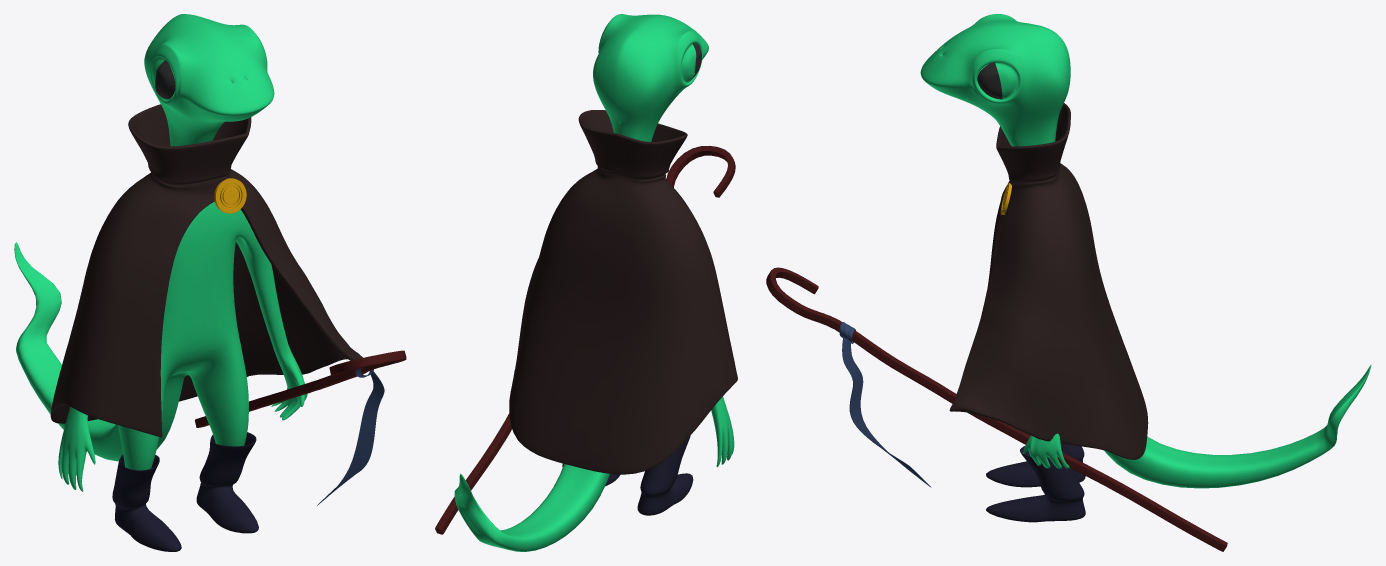
File: lizard.gltf
3 views of the same model, side by side, from view 1: azimuth 30°, elevation 25°; view 2: azimuth 150°, elevation 25°; view 3: azimuth 270°, elevation 25° (orthographic). The views are drawn at different scales.
Visible parts, largest first — view 1: Object_4, Object_8, Object_7, Object_2, Object_5, Object_9, Object_6, Object_3; view 2: Object_4, Object_7, Object_8, Object_2, Object_5; view 3: Object_4, Object_7, Object_8, Object_5, Object_2, Object_9.
Boxes of the visible parts, x1,y1,x2,y2 form: Object_4: [50, 104, 362, 437]; Object_8: [14, 201, 307, 491]; Object_7: [144, 14, 274, 146]; Object_2: [112, 432, 258, 551]; Object_5: [195, 350, 406, 427]; Object_9: [317, 368, 384, 505]; Object_6: [214, 178, 246, 213]; Object_3: [155, 60, 175, 99]; Object_4: [509, 110, 737, 474]; Object_7: [593, 14, 708, 141]; Object_8: [454, 371, 734, 551]; Object_2: [562, 436, 693, 515]; Object_5: [435, 145, 735, 534]; Object_4: [949, 103, 1148, 459]; Object_7: [920, 14, 1070, 146]; Object_8: [1022, 364, 1371, 488]; Object_5: [766, 267, 1227, 551]; Object_2: [986, 443, 1085, 522]; Object_9: [839, 322, 931, 487].
Size of the model in its own units: 30.36 by 58.36 by 67.48.
